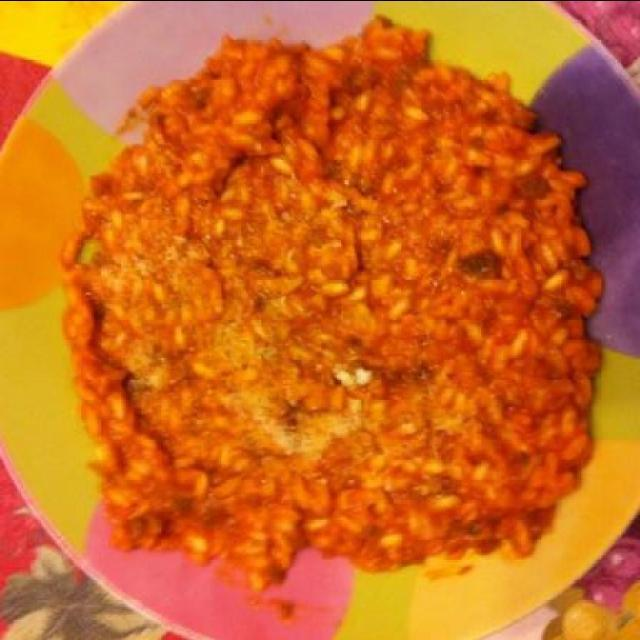Risotto: (66, 25, 583, 603)
